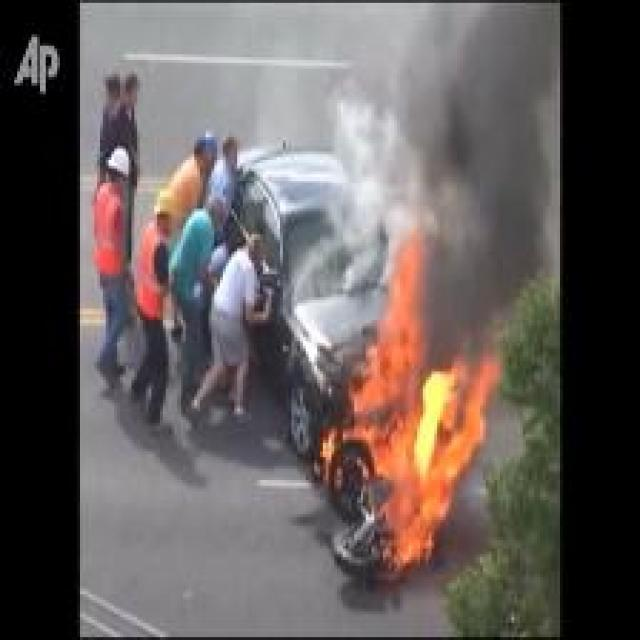Fire: (342, 222, 504, 574)
